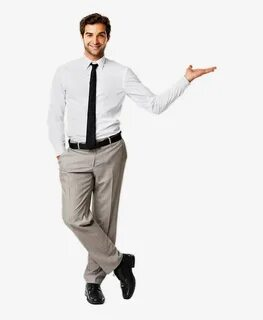awake: (47, 12, 159, 306)
